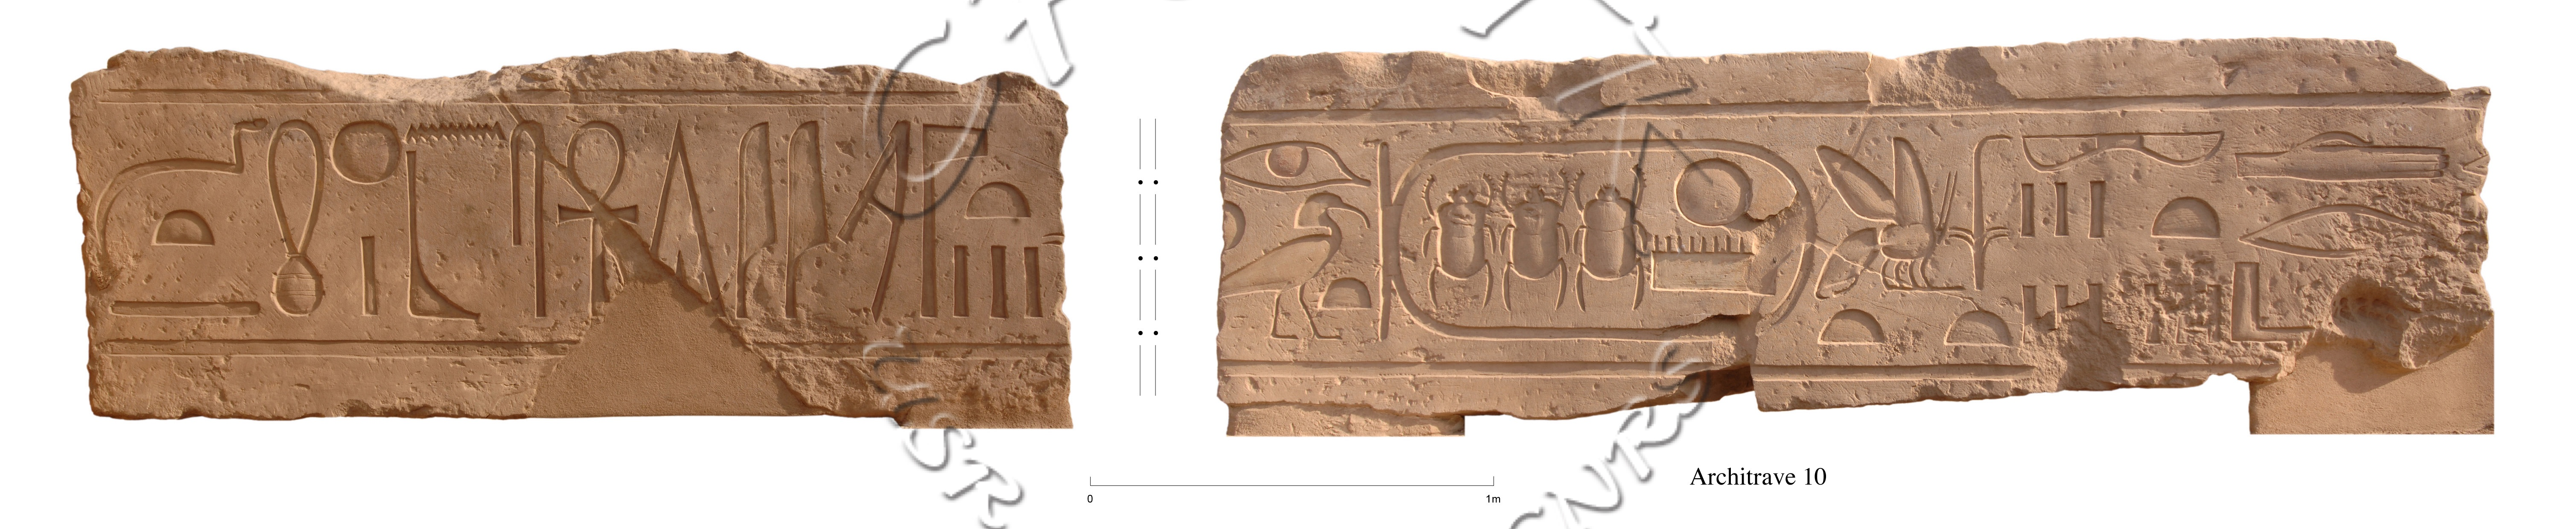D21: (2229, 191, 2448, 273)
D4: (1209, 136, 1382, 202)
I10: (77, 102, 281, 304)
M17: (774, 115, 835, 342), (728, 115, 784, 329)
N35: (399, 115, 513, 151)
X8: (626, 122, 731, 338)
